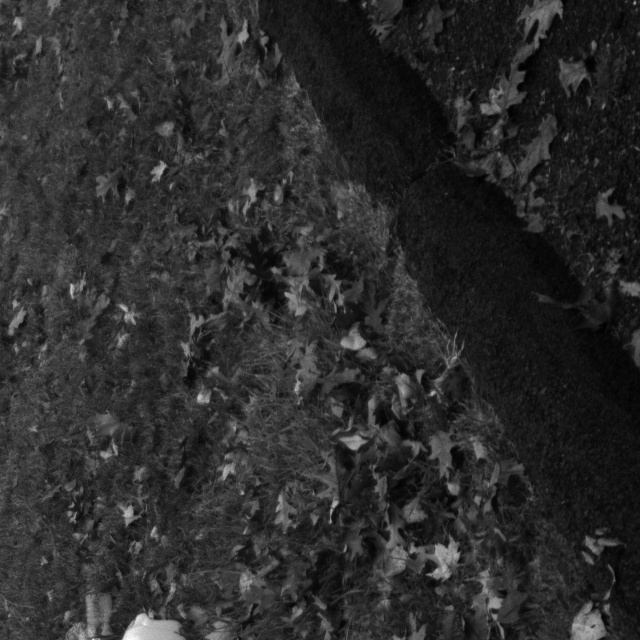bottle: (66, 572, 112, 640)
